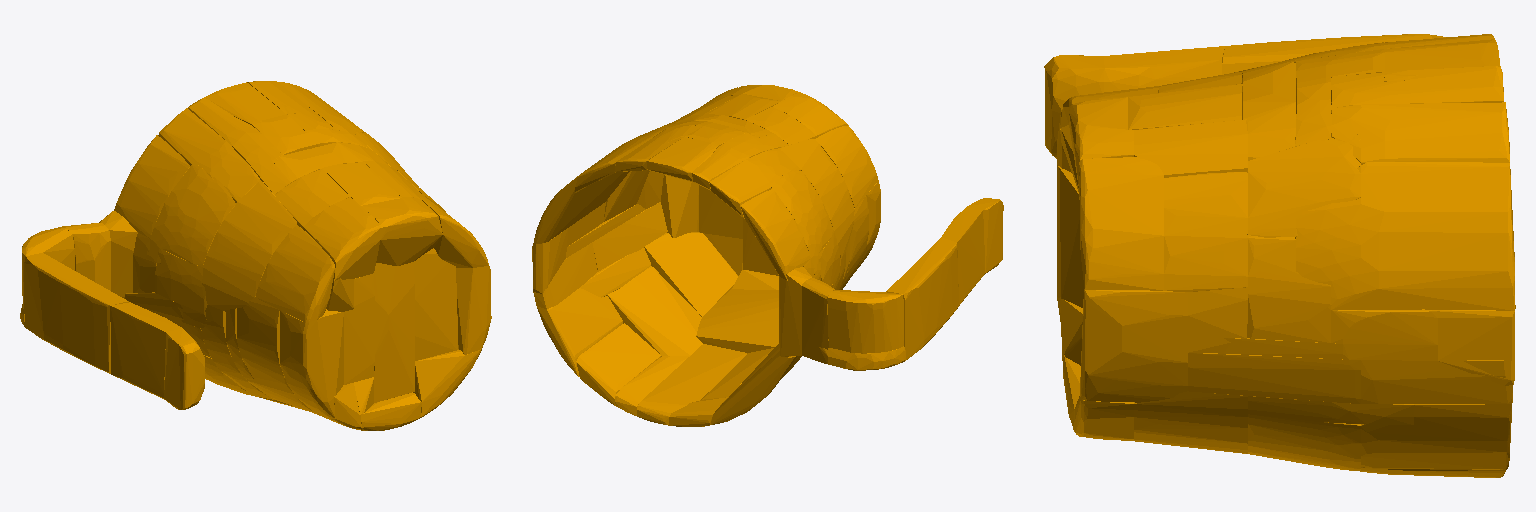
The robot description file, URDF, robot "cup-plastic":
<?xml version="1.0" ?>
<robot name="cup-plastic">
  <link name="baseLink">
    <contact>
      <lateral_friction value="1.0"/>
      <inertia_scaling value="3.0"/>
    </contact>
    <inertial>
      <origin rpy="0 0 0" xyz="0.000 0.000 0.000"/>
       <mass value=".1"/>
       <inertia ixx="1" ixy="0.0" ixz="0.0" iyy="1" iyz="0.0" izz="1"/>
    </inertial>
    <visual>
      <origin rpy="0 0 0" xyz="0 0 0"/>
      <geometry>
        <mesh filename="package://obj_models_small_size_final/cup/cup-plastic_green_flowers.obj" scale="1.0 1.0 1.0"/>
      </geometry>
    </visual>
    <collision>
      <origin rpy="0 0 0" xyz="0 0 0"/>
      <geometry>
        <mesh filename="package://obj_models_small_size_final/collision/cup/cup-plastic_green_flowers.obj" scale="1.0 1.0 1.0"/>
      </geometry>
    </collision>
  </link>
</robot>
        

--- What the picture shows (computed from the rendered views, not written in the file) ---
Views: 3 orthographic renders of the robot side by side, from view 1: azimuth 30°, elevation 25°; view 2: azimuth 150°, elevation 25°; view 3: azimuth 270°, elevation 25°.
Model cup-plastic with 1 links and 0 joints (none), rooted at baseLink, posed all joints at 0.
Visible links, largest first — view 1: baseLink; view 2: baseLink; view 3: baseLink.
Link boxes in pixels (box(x1,y1,x2,y2)): baseLink: box(20, 81, 491, 430); baseLink: box(532, 85, 1003, 426); baseLink: box(1044, 34, 1515, 477).
Bounding box of the posed robot: 0.1111 × 0.0849 × 0.0797 m (x, y, z).
1 mesh visuals loaded from 1 distinct referenced files (1 OBJ).